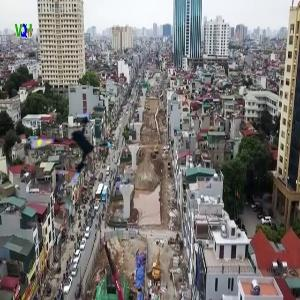drone: (31, 109, 112, 190)
